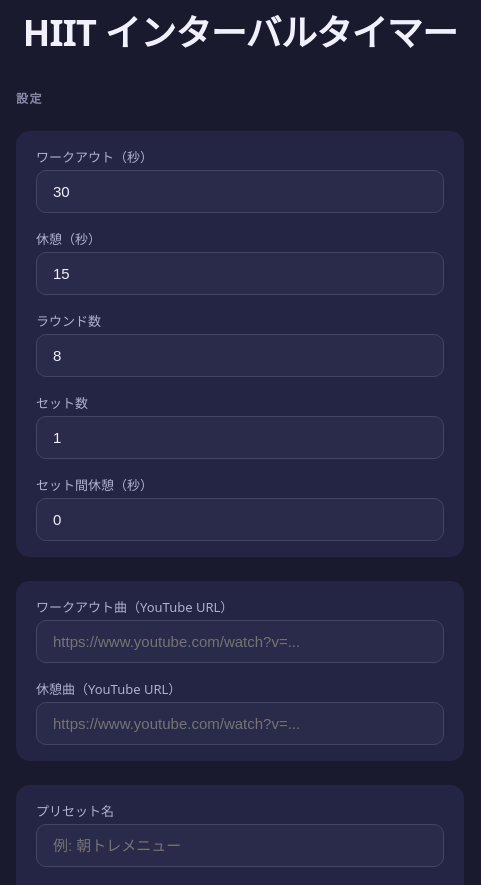
Test: App 統合テスト › 全ラウンド完了でサマリーが表示される
This screenshot has width=481, height=885.
Replace the text in the number field labelled "ワークアウト（秒）" with "3": x=240, y=192 [36, 170, 444, 213]
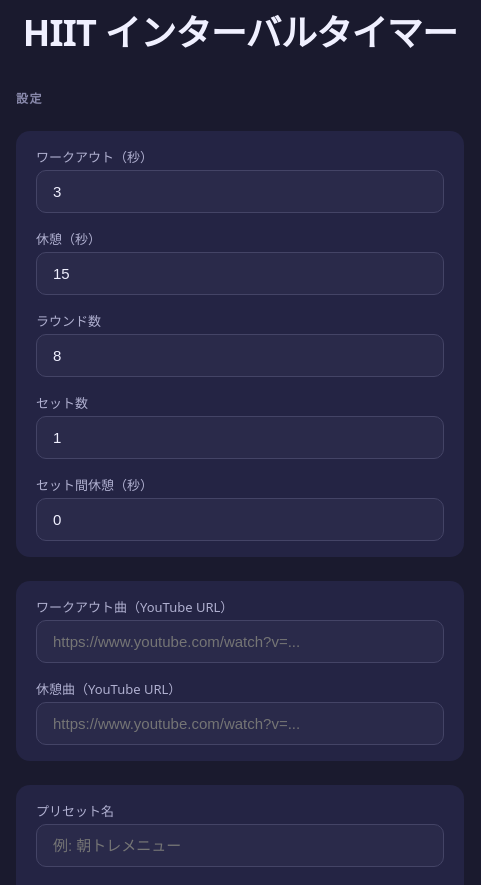
Replace the text in the number field labelled "ラウンド数" with "1": x=240, y=356 [36, 334, 444, 377]
(page scrolled)
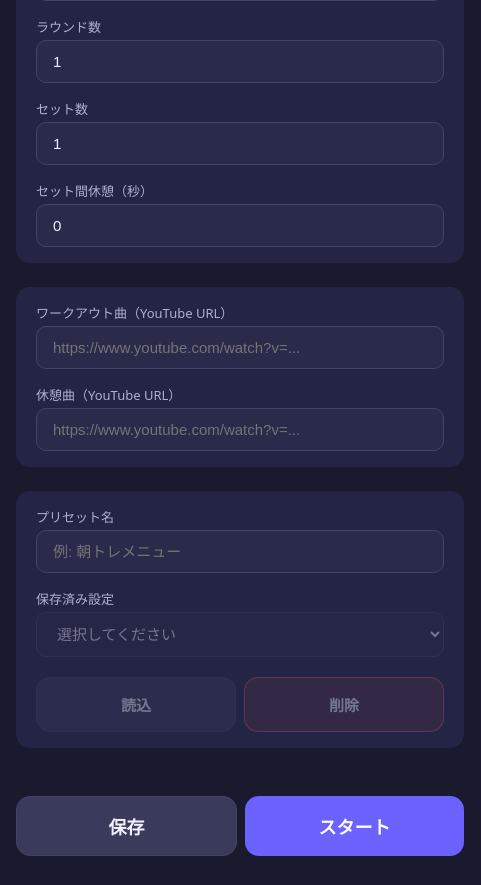
Click the button "スタート": x=354, y=826 [245, 796, 464, 856]
Wait 200 ms
(page scrolled)
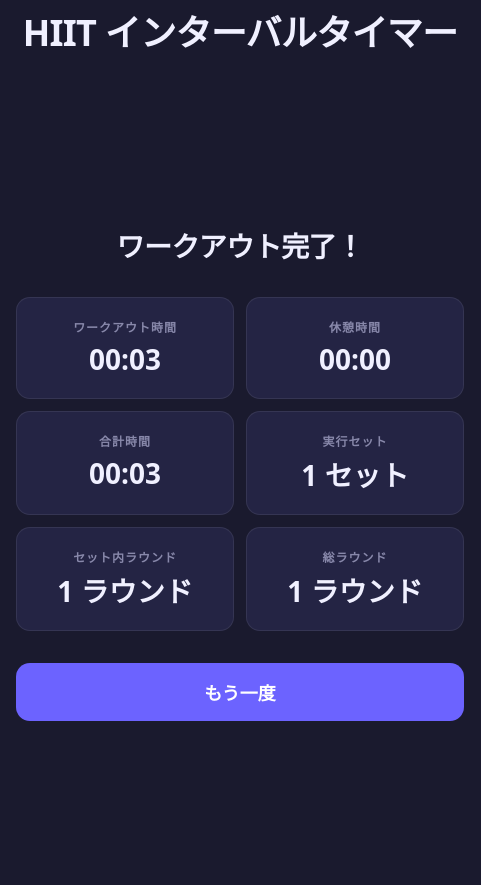
Result: the heading "ワークアウト完了！" is shown at [116, 226, 364, 264]
Result: the text "実行セット" is shown at [323, 432, 387, 450]
Result: the text "セット内ラウンド" is shown at [73, 548, 177, 566]
